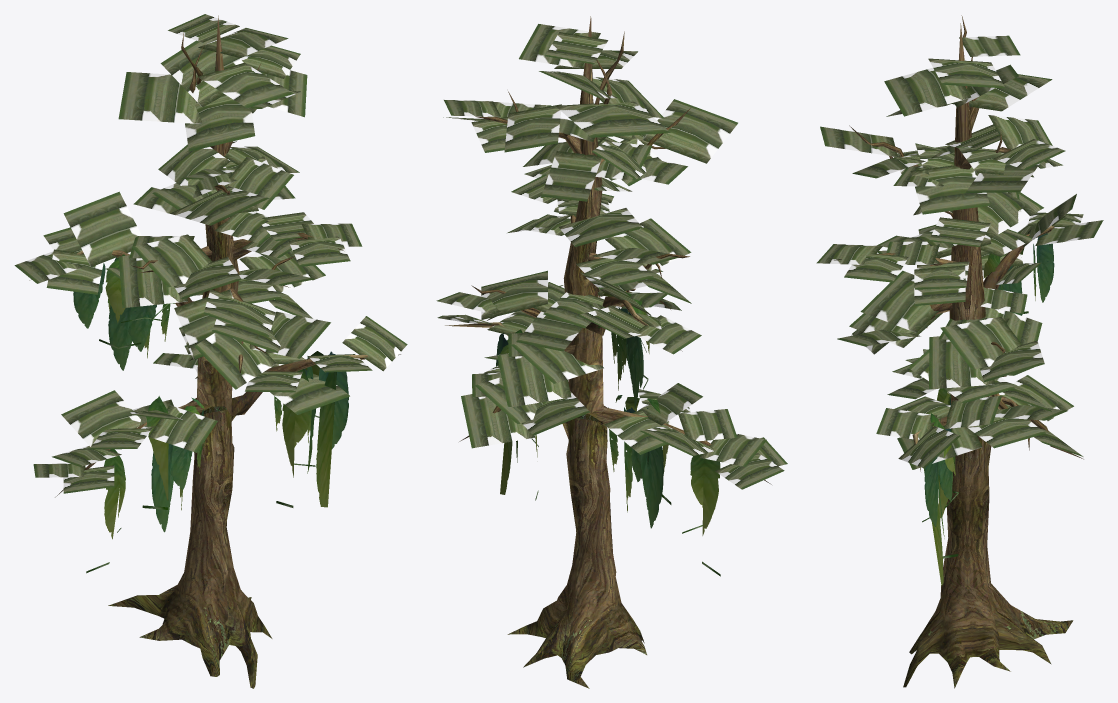
File: S_Tree_Green027.FBX
3 renders of one model, left to right at view 1: azimuth 30°, elevation 25°; view 2: azimuth 150°, elevation 25°; view 3: azimuth 270°, elevation 25°, orthographic.
Visible parts, largest first — view 1: S_Tree_Green027; view 2: S_Tree_Green027; view 3: S_Tree_Green027.
Part boxes in pixels (<box>): S_Tree_Green027: <box>14,14,407,688</box>; S_Tree_Green027: <box>436,16,787,688</box>; S_Tree_Green027: <box>816,15,1103,688</box>.
Size of the model in its own units: 1418 by 971 by 2468.
